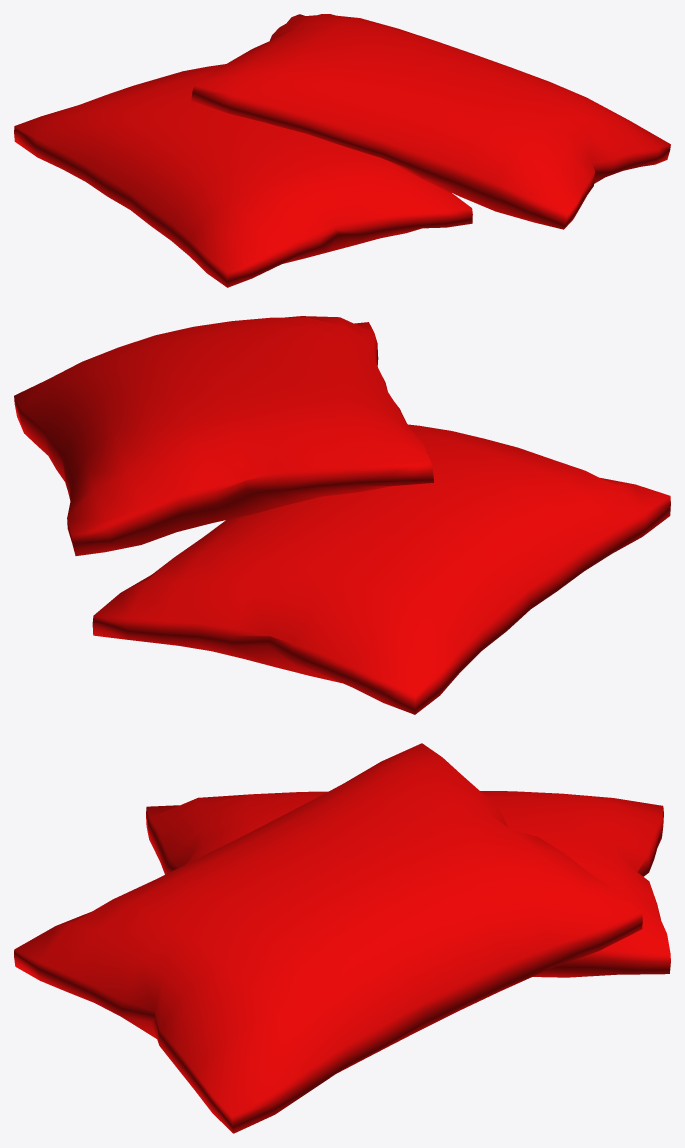
The model's file is FloorPillows.fbx.
3 views of the same model, one above another, from view 1: azimuth 30°, elevation 25°; view 2: azimuth 150°, elevation 25°; view 3: azimuth 270°, elevation 25° (orthographic). The views are drawn at different scales.
Visible parts, largest first — view 1: FloorPillows; view 2: FloorPillows; view 3: FloorPillows.
Part boxes in pixels (x1,y1,x2,y2): FloorPillows: (14, 14, 670, 287); FloorPillows: (14, 316, 670, 714); FloorPillows: (14, 743, 670, 1133).
Size of the model in its own units: 0.9406 by 0.2401 by 0.8788.
